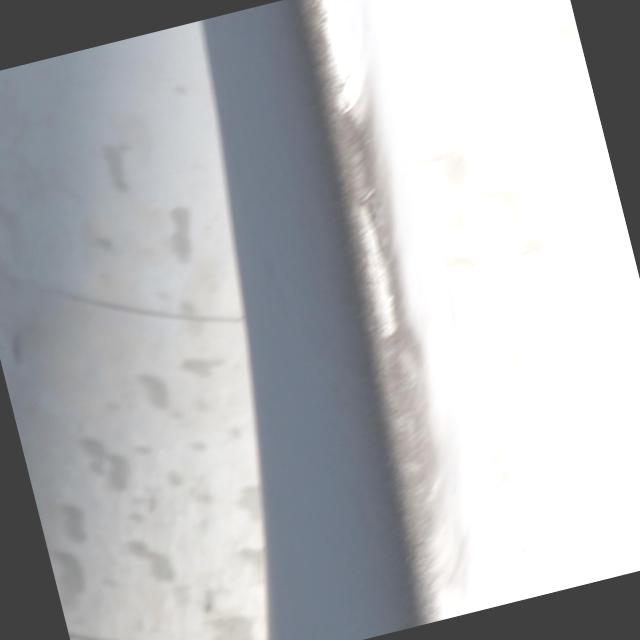corrosion: (269, 0, 466, 509)
